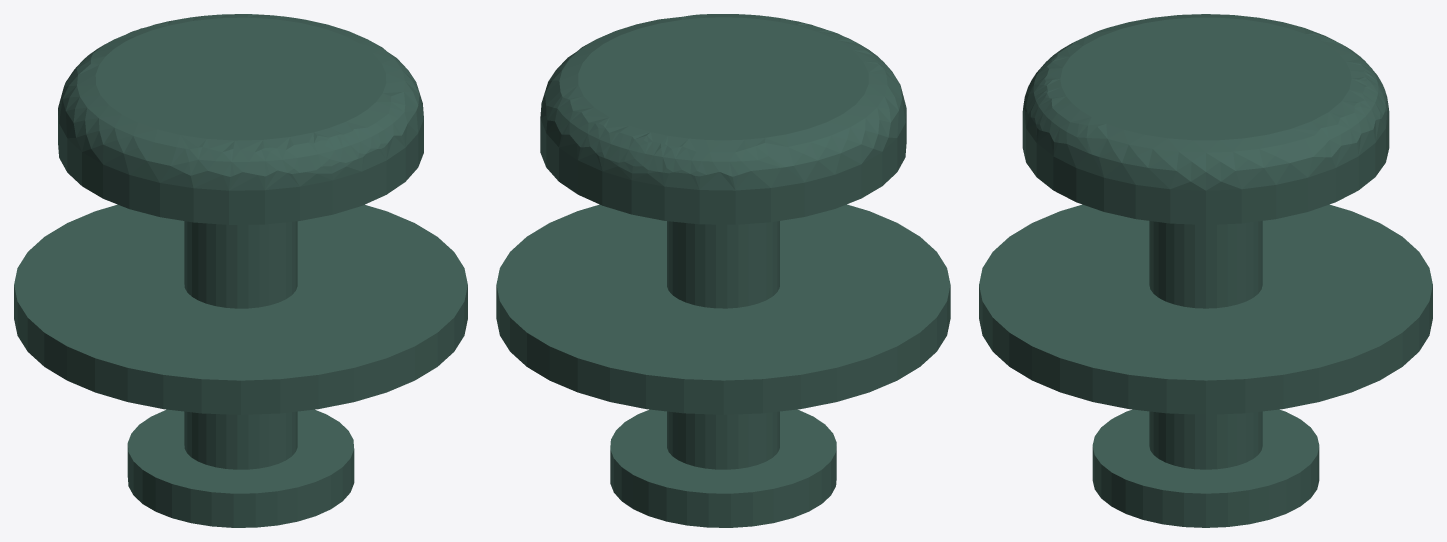
The model's file is SRILUPCR.glb.
3 renders of one model, left to right at view 1: azimuth 30°, elevation 25°; view 2: azimuth 150°, elevation 25°; view 3: azimuth 270°, elevation 25°, orthographic.
Visible parts, largest first — view 1: 20749293; view 2: 20749293; view 3: 20749293.
Boxes of the visible parts, <box> form: 20749293: <box>14,14,467,527</box>; 20749293: <box>496,14,950,527</box>; 20749293: <box>979,14,1432,527</box>.
Size of the model in its own units: 1 by 0.975 by 1.
